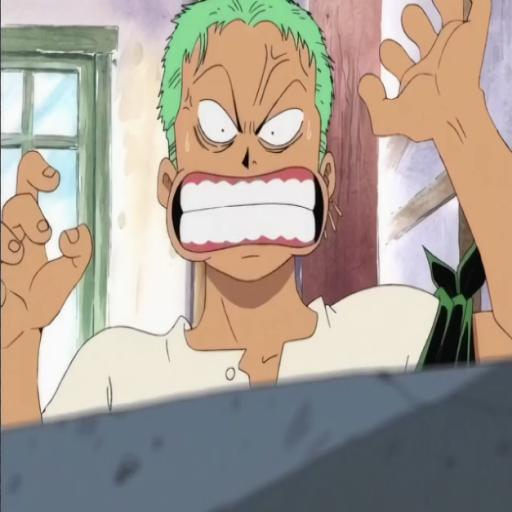Zoro: (0, 0, 512, 410)
